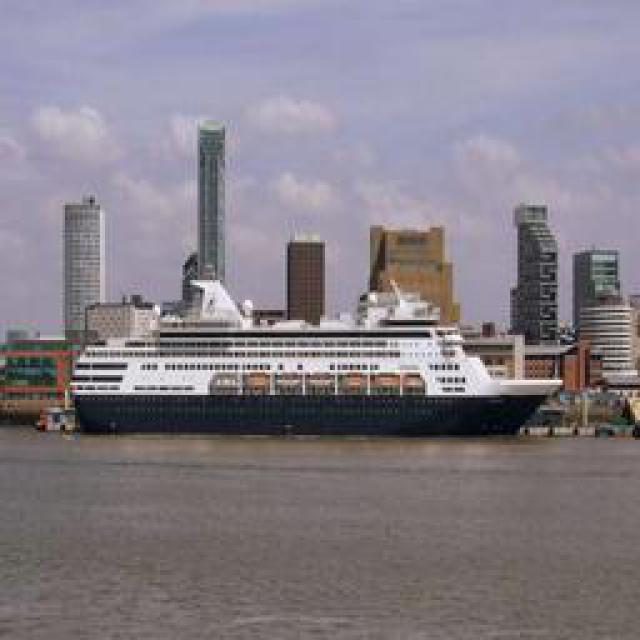Ship: (74, 248, 569, 436)
